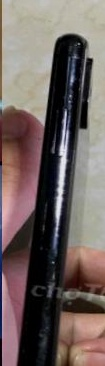scratch: (59, 44, 82, 121), (36, 245, 63, 279), (27, 357, 43, 366)
